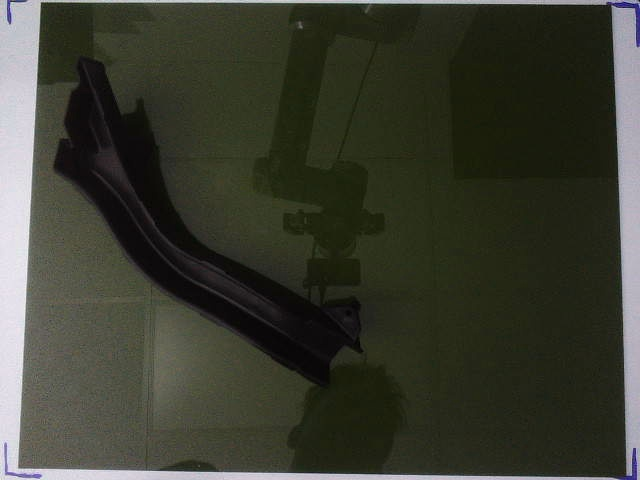887_A-Under: (53, 58, 364, 388)
